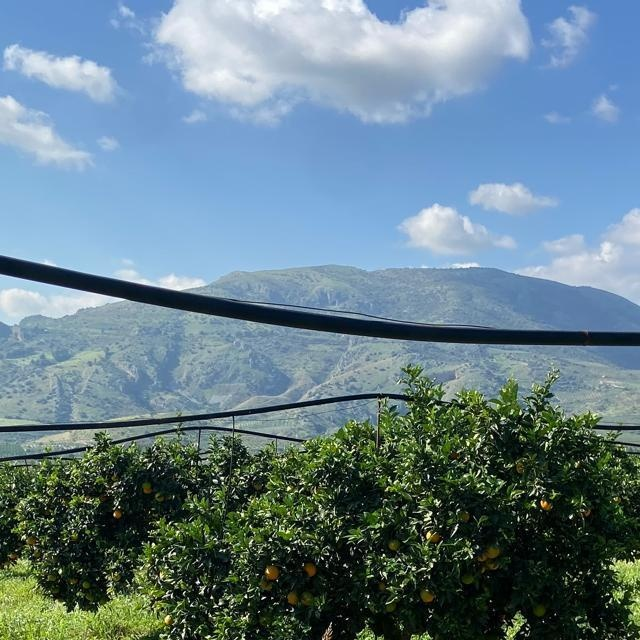orange: (416, 582, 440, 604), (262, 561, 282, 585), (422, 524, 446, 542), (281, 586, 305, 604), (302, 558, 320, 580), (140, 479, 156, 495), (539, 495, 555, 511), (485, 544, 501, 558), (484, 557, 500, 571), (531, 603, 545, 617), (387, 538, 401, 552), (382, 600, 398, 612), (460, 572, 474, 584), (161, 612, 173, 626), (475, 550, 487, 562), (111, 508, 123, 520), (374, 581, 386, 591), (81, 579, 91, 589), (27, 536, 37, 546), (9, 553, 19, 561)
